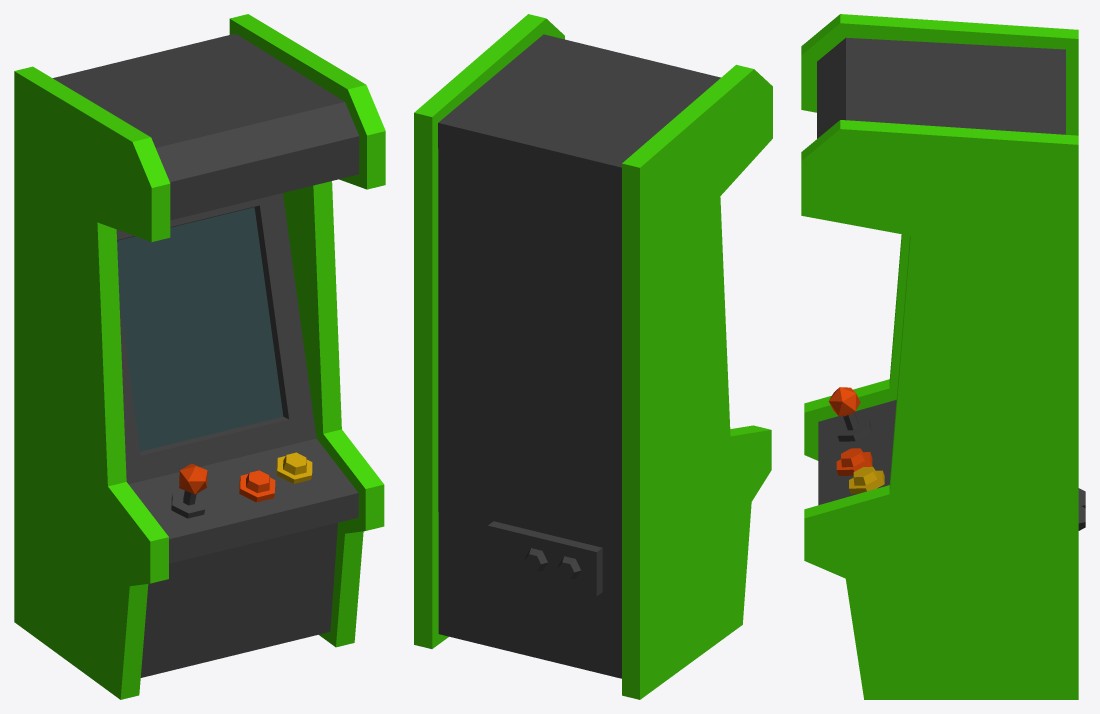
3 renders of one model, left to right at view 1: azimuth 30°, elevation 25°; view 2: azimuth 150°, elevation 25°; view 3: azimuth 270°, elevation 25°, orthographic. The views are drawn at different scales.
Parts seen in each view (by area): view 1: gamemachine_01; view 2: gamemachine_01; view 3: gamemachine_01.
Part boxes in pixels (box(x1,y1,x2,y2)): gamemachine_01: box(14, 14, 385, 699); gamemachine_01: box(414, 14, 772, 699); gamemachine_01: box(801, 14, 1085, 699).
Bounding box in the file's own units: 80 × 185 × 83.52.
